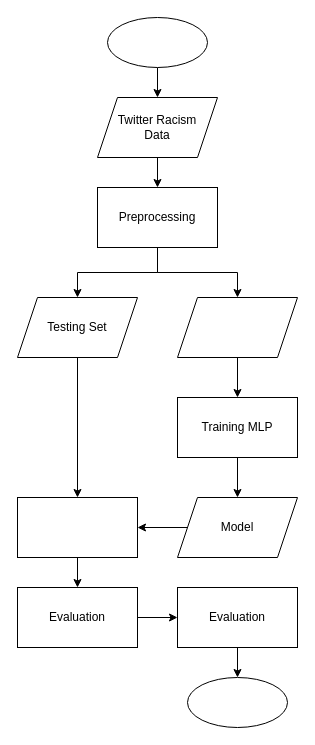
Image size: 315x745. Some labels were removed from this diagram. The centre of each missing label's shape, as x and y in pixels:
End: [237,702]
Start: [157,42]
Testing: [77,527]
Training Set: [237,327]
